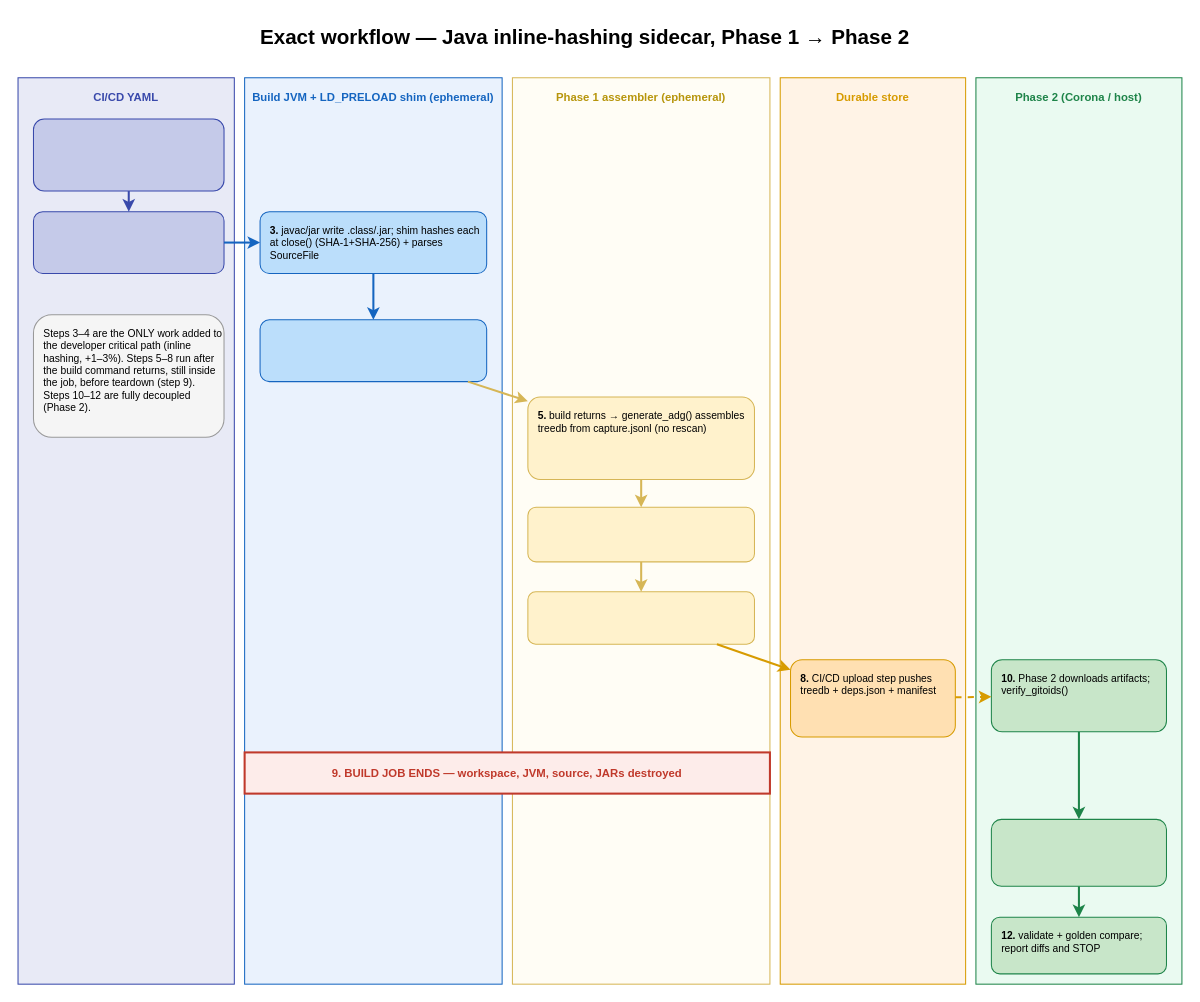
Image size: 1200x1002. Some labels were removed from this diagram. The shapes that lost their labels are listed below. From the top down, each one's centre as x and y in pixels, then its label:
At (x=128, y=154): "1. export LD_PRELOAD + OMNIBOR_CAPTURE_LOG; (Gradle) GRADLE_OPTS daemon=false".
At (x=128, y=242): "2. run existing build: mvn package (UNCHANGED)".
At (x=373, y=350): "4. append events to capture.jsonl (during build)".
At (x=640, y=534): "6. mvn dependency:tree → maven_deps.json (declared graph)".
At (x=640, y=617): "7. write phase1_manifest.json (paths + SHA-256 gitoids)".
At (x=1078, y=852): "11. JavaSpdxGenerator: _analyzed (treedb) + _build (deps.json) SPDX 2.3".
